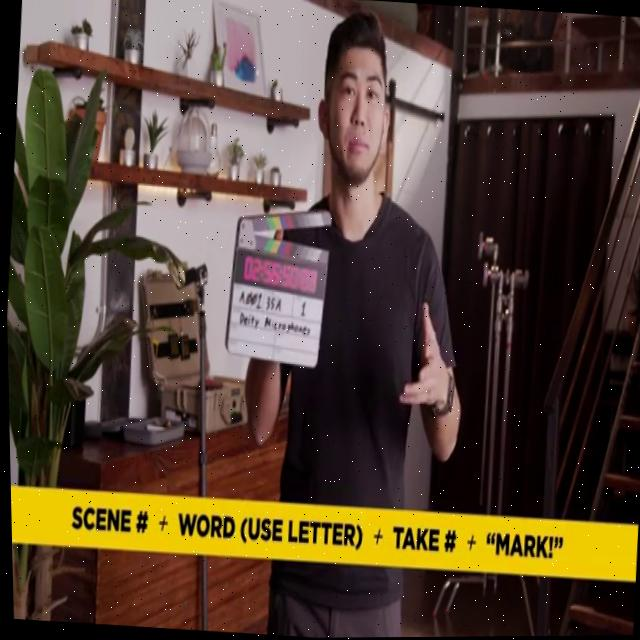Clapperboard: (218, 199, 336, 379)
